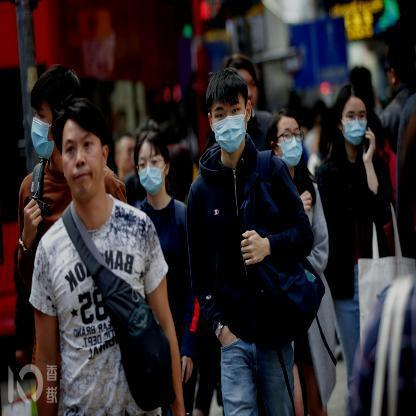with_mask: (30, 67, 82, 169), (206, 67, 252, 158), (335, 82, 372, 147), (268, 110, 304, 171), (136, 134, 171, 196)
without_mask: (61, 96, 109, 206)
